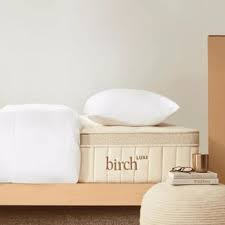bed-matress: (1, 110, 201, 184)
